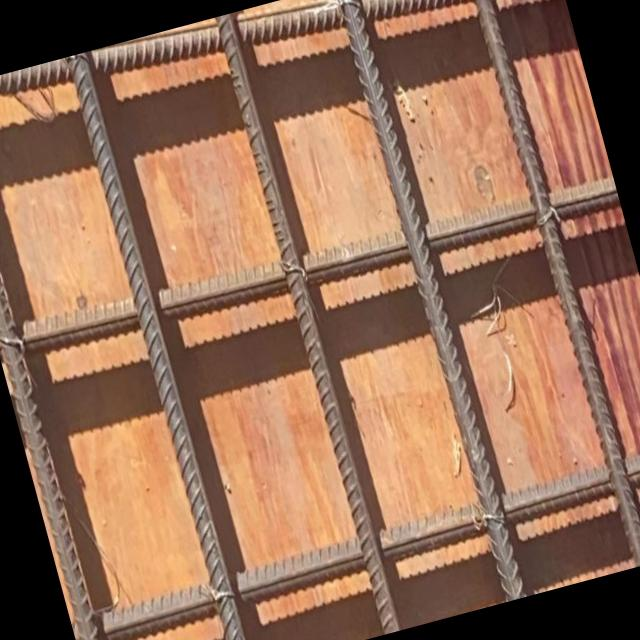ribbed bar: (0, 161, 620, 371), (331, 0, 525, 604), (65, 438, 640, 640), (214, 14, 400, 636), (65, 53, 253, 640), (459, 0, 640, 570), (0, 0, 562, 148), (0, 88, 119, 640)
